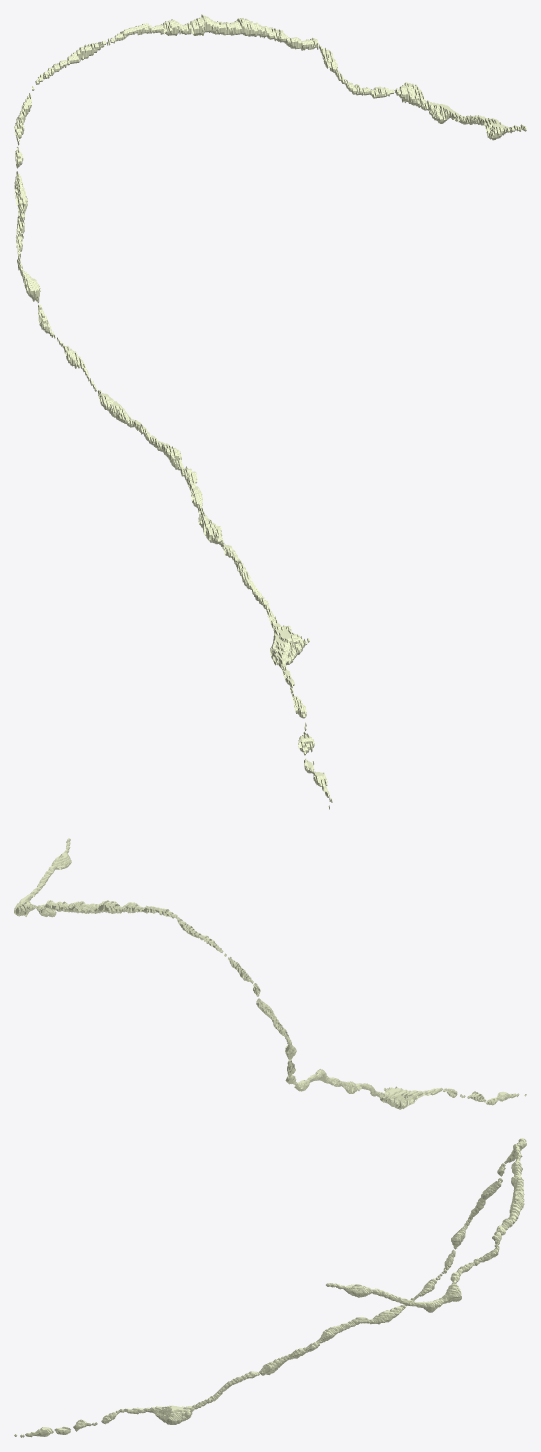
Rendered from SVV_AVJR.gltf.
3 renders of one model, top to bottom at view 1: azimuth 30°, elevation 25°; view 2: azimuth 150°, elevation 25°; view 3: azimuth 270°, elevation 25°, orthographic. The views are drawn at different scales.
Visible parts, largest first — view 1: AVJR; view 2: AVJR; view 3: AVJR.
Boxes of the visible parts, box(x1,y1,x2,y2) form: AVJR: box(14, 14, 526, 809); AVJR: box(14, 838, 526, 1109); AVJR: box(14, 1138, 526, 1437).
Bounding box in the file's own units: 130568 × 144438 × 195804.
